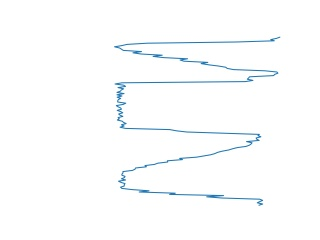distributaryChannelFill: (110, 71, 265, 142)
mouthBar: (112, 33, 283, 79)
underwaterDistributaryChannel: (115, 136, 268, 209)
